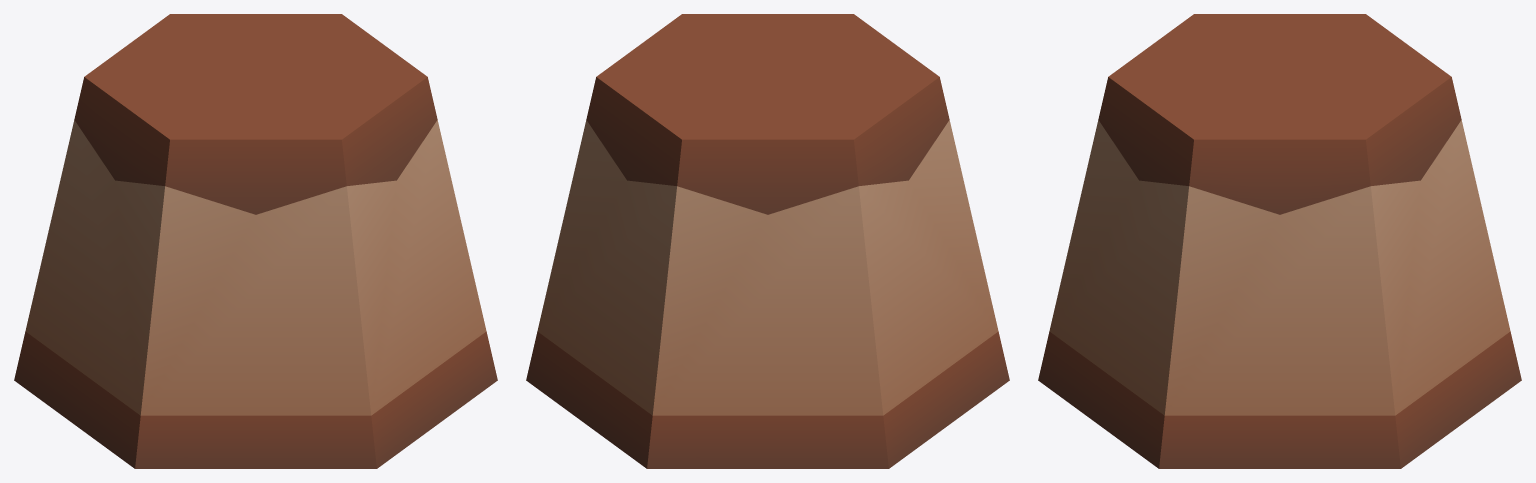
Rendered from pudding.glb.
3 views of the same model, side by side, from view 1: azimuth 30°, elevation 25°; view 2: azimuth 150°, elevation 25°; view 3: azimuth 270°, elevation 25° (orthographic).
Parts seen in each view (by area): view 1: geometry_0; view 2: geometry_0; view 3: geometry_0.
Boxes of the visible parts, left/top/right/bottom form: geometry_0: left=14, top=14, right=497, bottom=468; geometry_0: left=526, top=14, right=1009, bottom=468; geometry_0: left=1038, top=14, right=1521, bottom=468.
Bounding box in the file's own units: 0.9266 × 0.7408 × 1.07.
